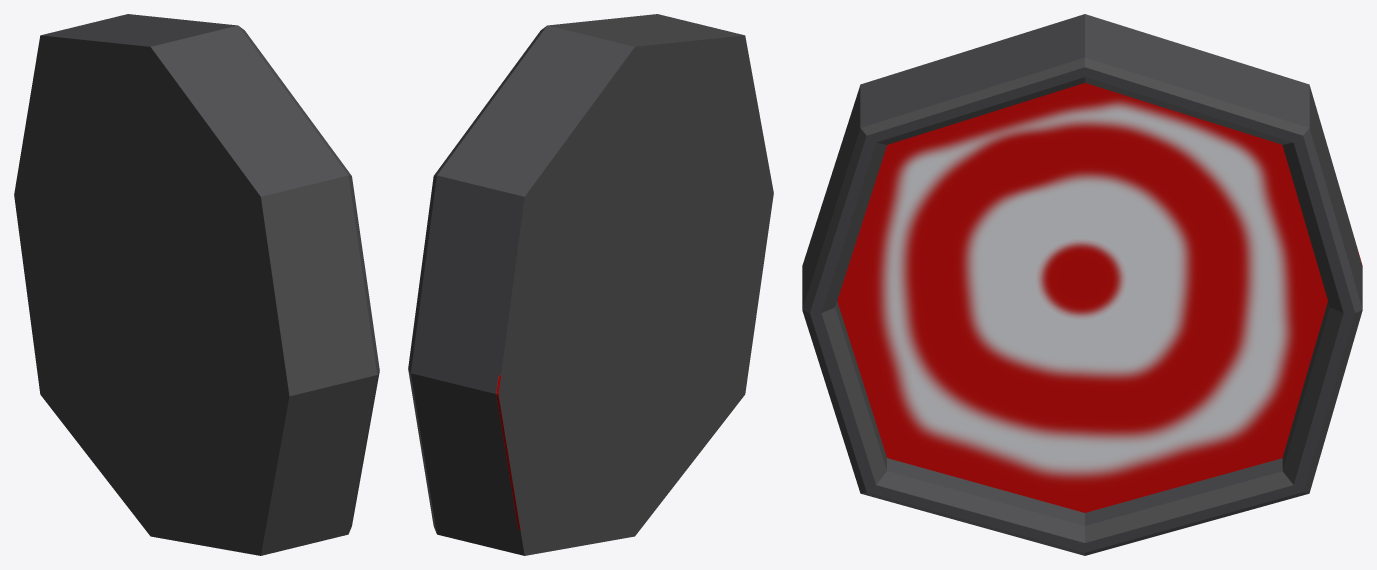
Rendered from target.fbx.
3 renders of one model, left to right at view 1: azimuth 30°, elevation 25°; view 2: azimuth 150°, elevation 25°; view 3: azimuth 270°, elevation 25°, orthographic.
Visible parts, largest first — view 1: Cube; view 2: Cube; view 3: Cube.
Part boxes in pixels (left/top/right/bottom): Cube: left=14, top=14, right=379, bottom=555; Cube: left=408, top=14, right=773, bottom=555; Cube: left=802, top=14, right=1362, bottom=555.
Bounding box in the file's own units: 29.5 × 147 × 149.
Materials: 1 (1 with a texture image).
